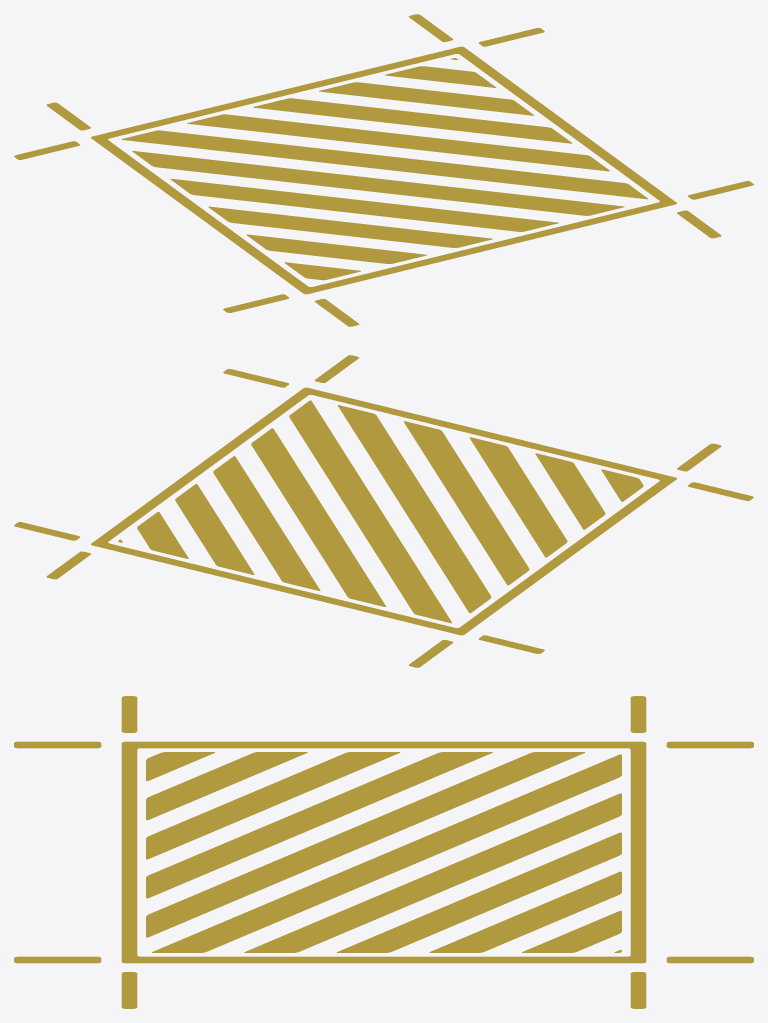
The model's file is floor.gltf.
The picture shows the model from 3 angles, top to bottom: view 1: azimuth 30°, elevation 25°; view 2: azimuth 150°, elevation 25°; view 3: azimuth 270°, elevation 25°; orthographic projection. The views are drawn at different scales.
Visible parts, largest first — view 1: floor; view 2: floor; view 3: floor.
Boxes of the visible parts, left/top/right/bottom form: floor: left=14, top=14, right=753, bottom=326; floor: left=14, top=355, right=753, bottom=667; floor: left=14, top=696, right=753, bottom=1008.
Size of the model in its own units: 4 by 0 by 4.
